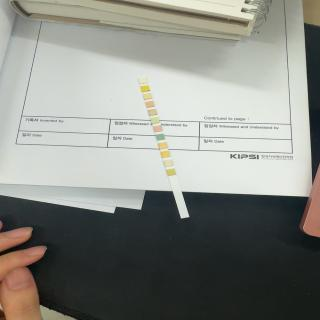mark: (146, 101, 154, 108), (141, 85, 149, 92), (165, 160, 172, 167), (167, 170, 175, 176), (162, 151, 170, 157), (159, 143, 167, 149), (156, 134, 164, 140), (154, 126, 162, 132), (148, 110, 156, 116), (144, 94, 152, 100), (138, 78, 146, 84), (152, 118, 158, 124)
